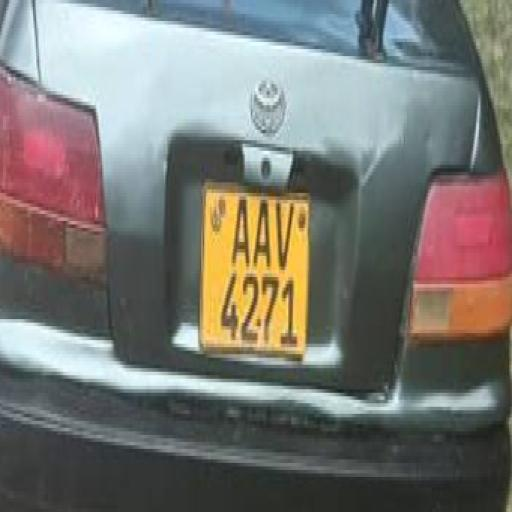number-plates: (205, 185, 300, 352)
